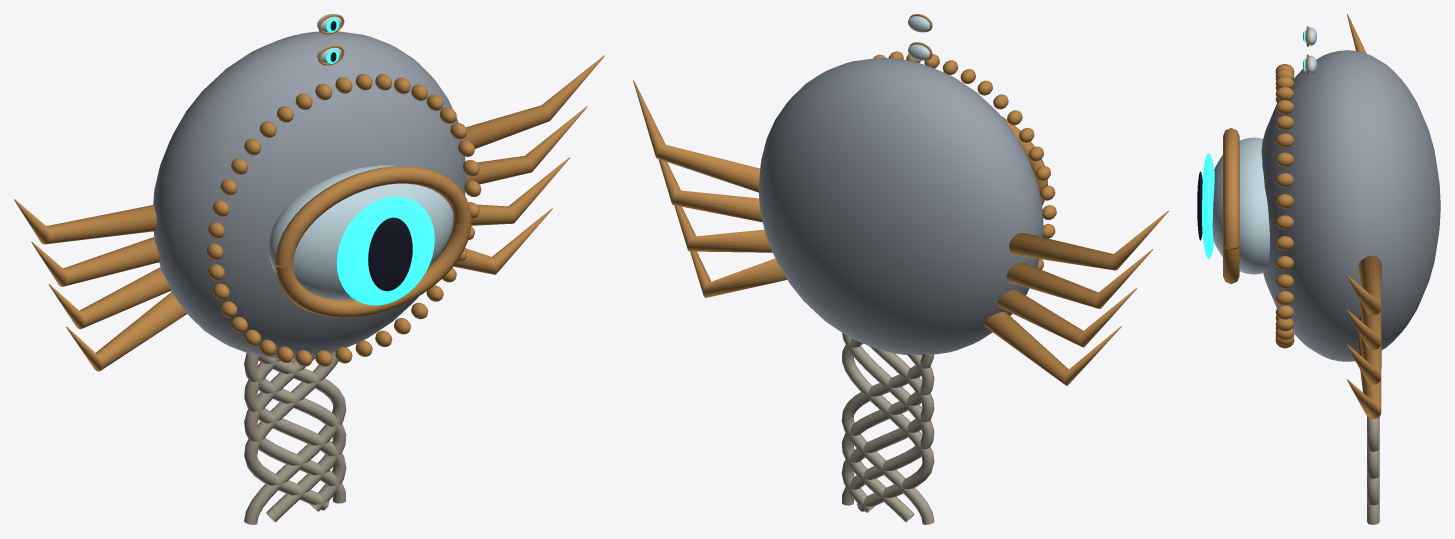
Rendered from lens-wisp.glb.
The picture shows the model from 3 angles, left to right: view 1: azimuth 30°, elevation 25°; view 2: azimuth 150°, elevation 25°; view 3: azimuth 270°, elevation 25°; orthographic projection. The views are drawn at different scales.
Visible parts, largest first — view 1: Lens Wisp / bone.008, Lens Wisp / gold.008, Lens Wisp / linen.008, Lens Wisp / pearl.008, Lens Wisp / cyan.008, Lens Wisp / ink.008; view 2: Lens Wisp / bone.008, Lens Wisp / gold.008, Lens Wisp / linen.008; view 3: Lens Wisp / bone.008, Lens Wisp / gold.008, Lens Wisp / pearl.008, Lens Wisp / linen.008, Lens Wisp / cyan.008, Lens Wisp / ink.008.
Part boxes in pixels (x1=…): Lens Wisp / bone.008: x1=153, y1=31, x2=466, y2=359; Lens Wisp / gold.008: x1=14, y1=14, x2=604, y2=371; Lens Wisp / linen.008: x1=244, y1=352, x2=346, y2=524; Lens Wisp / pearl.008: x1=268, y1=14, x2=453, y2=300; Lens Wisp / cyan.008: x1=326, y1=18, x2=434, y2=305; Lens Wisp / ink.008: x1=330, y1=21, x2=412, y2=291; Lens Wisp / bone.008: x1=758, y1=58, x2=1043, y2=354; Lens Wisp / gold.008: x1=633, y1=14, x2=1168, y2=385; Lens Wisp / linen.008: x1=841, y1=333, x2=934, y2=524; Lens Wisp / bone.008: x1=1261, y1=50, x2=1440, y2=361; Lens Wisp / gold.008: x1=1223, y1=14, x2=1381, y2=419; Lens Wisp / pearl.008: x1=1212, y1=27, x2=1316, y2=274; Lens Wisp / linen.008: x1=1367, y1=416, x2=1379, y2=524; Lens Wisp / cyan.008: x1=1202, y1=30, x2=1305, y2=258; Lens Wisp / ink.008: x1=1197, y1=32, x2=1303, y2=240.
Bounding box in the file's own units: 1.19 × 1.02 × 0.4689.
